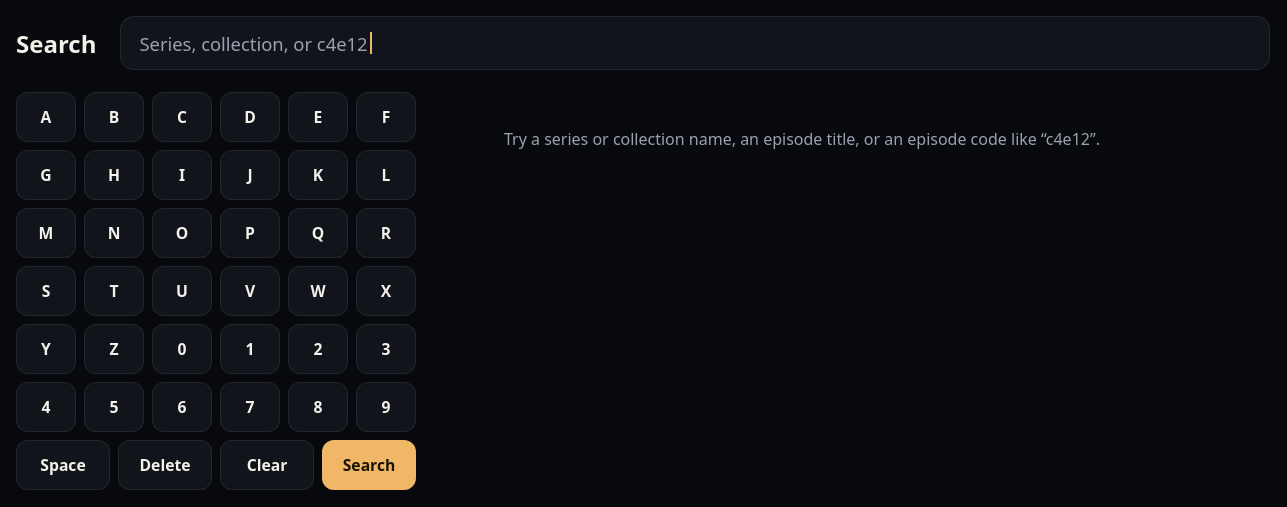
Test: Search › says when nothing matches
This screenshot has width=1287, height=507.
Click the button "Z" at (114, 349), box left=84, top=324, right=144, bottom=374
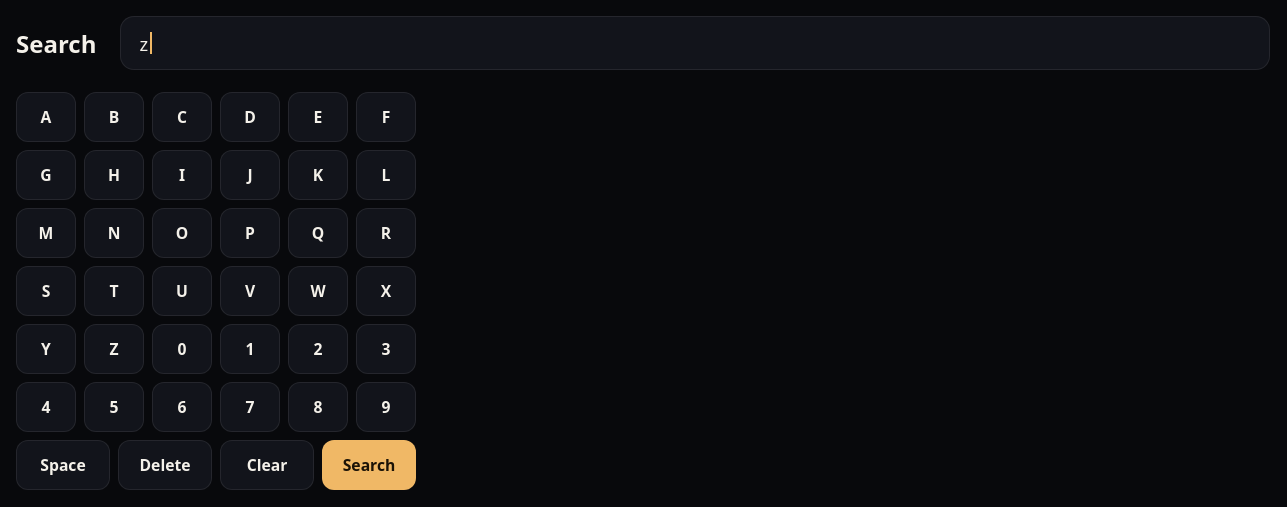
Click the button "Z" at (114, 349), box left=84, top=324, right=144, bottom=374
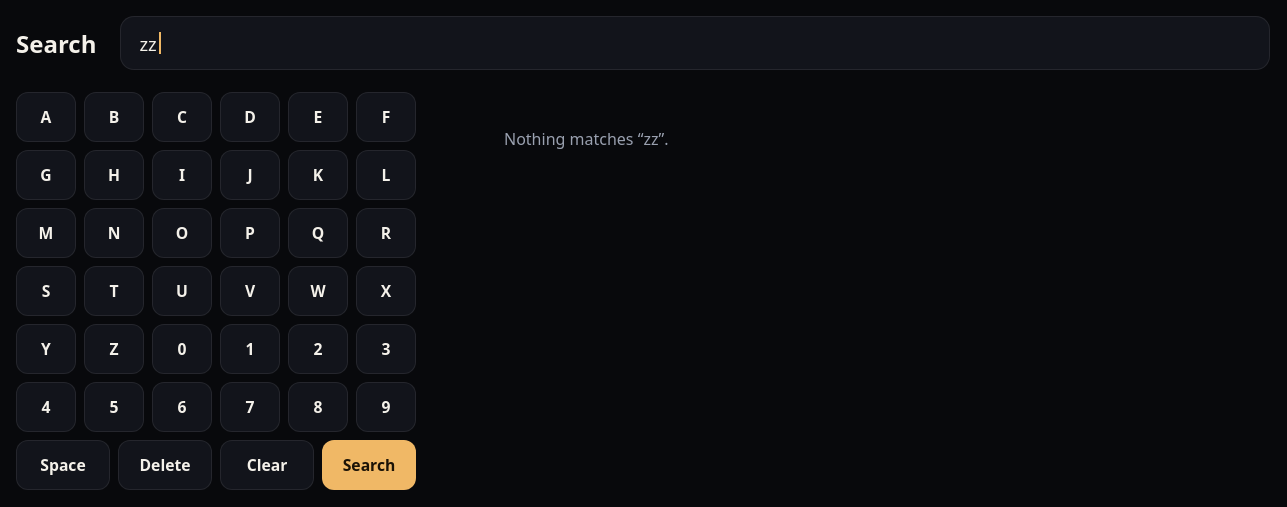
Check: the text "Nothing matches “zz”." is shown, box left=504, top=128, right=668, bottom=150
